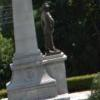Statue: (35, 0, 59, 59)
